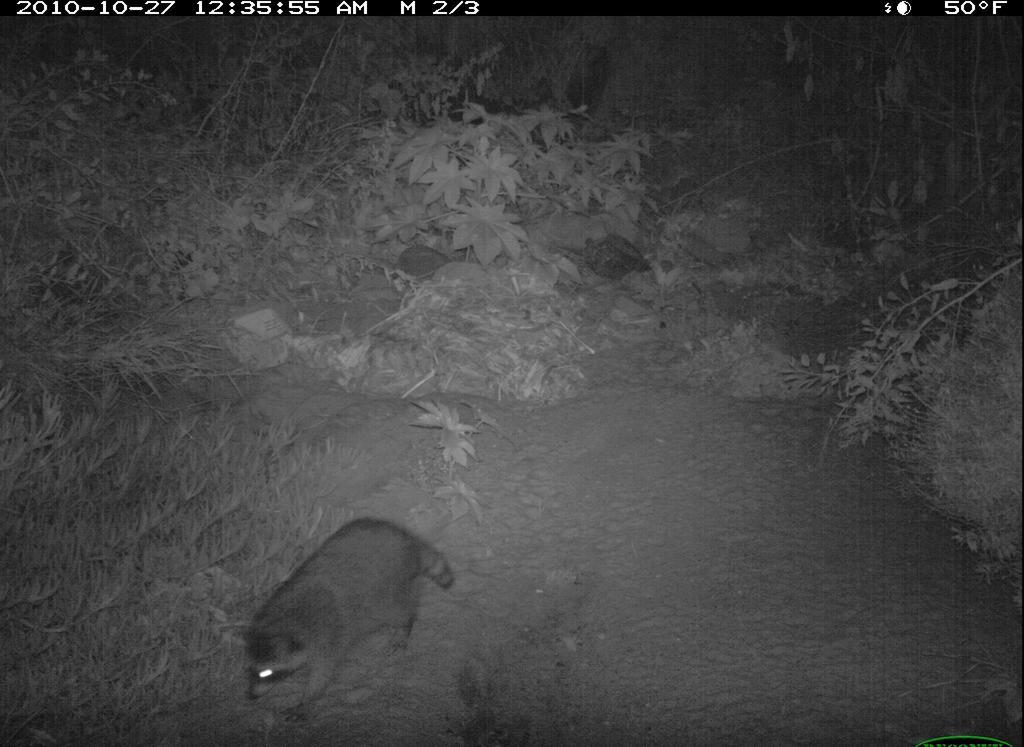raccoon: (236, 506, 464, 731)
